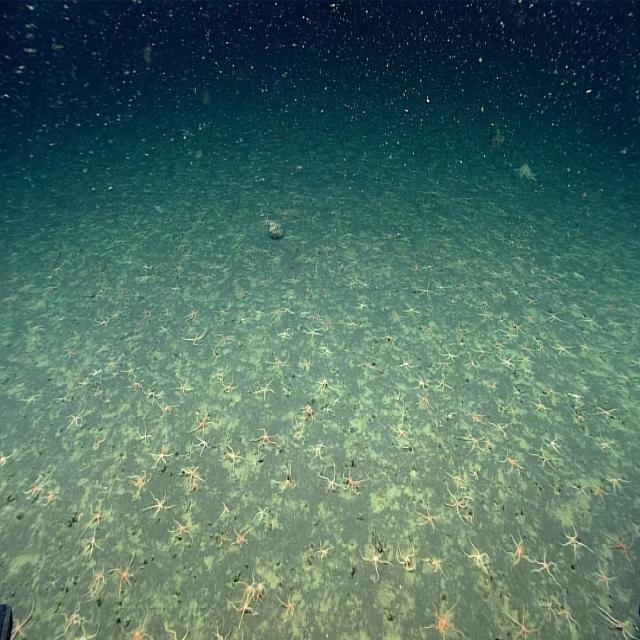brittle-stars: (418, 589, 468, 640), (226, 571, 275, 622), (499, 512, 534, 576), (108, 544, 144, 606), (456, 528, 495, 584), (356, 531, 393, 586), (493, 601, 544, 640), (590, 598, 637, 640), (6, 592, 46, 640), (81, 492, 124, 532), (119, 599, 160, 640), (215, 436, 251, 482), (241, 366, 277, 412), (442, 483, 478, 526), (526, 544, 562, 587), (166, 507, 200, 552), (270, 456, 302, 503), (555, 524, 596, 560), (602, 521, 638, 562), (20, 458, 53, 502), (248, 418, 280, 462), (80, 560, 110, 605), (393, 538, 422, 584), (140, 484, 177, 520), (414, 498, 448, 536), (52, 598, 82, 640), (313, 457, 343, 499), (264, 337, 298, 374), (124, 462, 155, 502), (456, 426, 490, 462), (381, 419, 418, 452), (180, 460, 208, 503), (79, 525, 105, 570), (304, 428, 332, 469), (163, 612, 203, 640), (422, 545, 449, 584), (308, 533, 336, 569), (175, 325, 211, 353), (65, 398, 90, 438), (339, 458, 364, 498), (588, 564, 618, 597), (594, 425, 620, 463), (186, 404, 215, 438), (588, 397, 622, 426), (275, 589, 303, 623), (153, 438, 179, 474), (557, 596, 582, 632), (442, 462, 469, 495), (538, 585, 558, 629), (13, 384, 42, 414), (233, 520, 257, 554), (483, 415, 512, 443), (528, 449, 556, 478), (499, 448, 525, 479), (131, 418, 155, 451), (284, 419, 311, 448), (73, 618, 108, 640), (86, 426, 110, 458), (310, 370, 337, 398), (42, 482, 65, 514), (203, 359, 232, 384), (385, 386, 410, 415), (541, 303, 566, 332), (562, 382, 591, 406), (540, 432, 570, 455), (209, 623, 248, 640), (547, 342, 577, 364), (216, 376, 242, 401), (412, 390, 435, 418), (570, 476, 594, 502), (215, 495, 236, 524), (459, 349, 480, 378), (343, 272, 372, 293), (432, 373, 456, 398), (498, 348, 521, 374), (0, 436, 18, 469), (272, 320, 294, 347), (212, 524, 233, 552), (168, 374, 192, 398), (157, 397, 180, 422), (69, 369, 94, 392), (415, 278, 437, 304), (460, 405, 488, 425), (136, 299, 155, 328), (192, 434, 214, 459), (411, 370, 432, 396), (146, 380, 166, 407), (210, 326, 238, 345), (91, 309, 113, 333), (252, 501, 271, 528), (59, 345, 81, 368), (295, 398, 313, 426), (126, 373, 146, 398), (531, 394, 550, 420), (594, 473, 608, 508), (399, 298, 421, 320), (518, 307, 540, 329), (451, 318, 471, 342), (255, 266, 272, 294), (118, 360, 137, 385), (300, 326, 326, 344), (376, 329, 398, 350), (497, 323, 517, 346), (489, 282, 508, 306), (455, 272, 473, 297), (487, 335, 508, 356), (208, 302, 230, 322), (395, 354, 417, 374), (476, 304, 496, 326), (180, 306, 204, 324), (298, 354, 315, 379), (290, 306, 318, 321), (510, 317, 530, 338), (108, 301, 124, 327), (160, 296, 178, 319), (427, 358, 450, 376), (198, 268, 219, 287), (318, 342, 336, 364), (609, 472, 627, 494), (283, 267, 301, 289), (357, 356, 376, 376), (353, 294, 372, 314), (279, 298, 296, 320), (104, 350, 120, 373), (387, 307, 405, 327), (468, 462, 486, 482), (156, 319, 172, 341), (306, 309, 328, 325), (232, 285, 250, 304), (440, 345, 459, 363), (516, 351, 536, 368), (520, 293, 544, 307), (546, 381, 561, 402), (579, 338, 594, 359), (510, 279, 523, 303), (345, 316, 361, 334), (269, 299, 281, 322), (520, 338, 534, 357), (208, 347, 225, 362)
